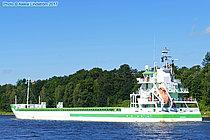Ship: (8, 90, 207, 126)
